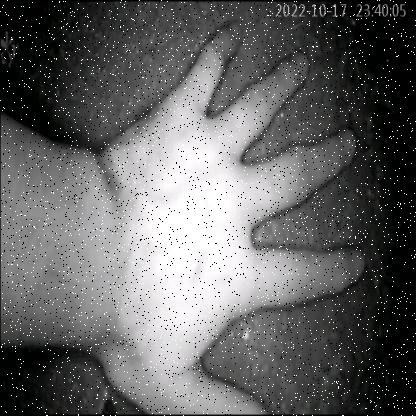hand: (1, 14, 368, 416)
